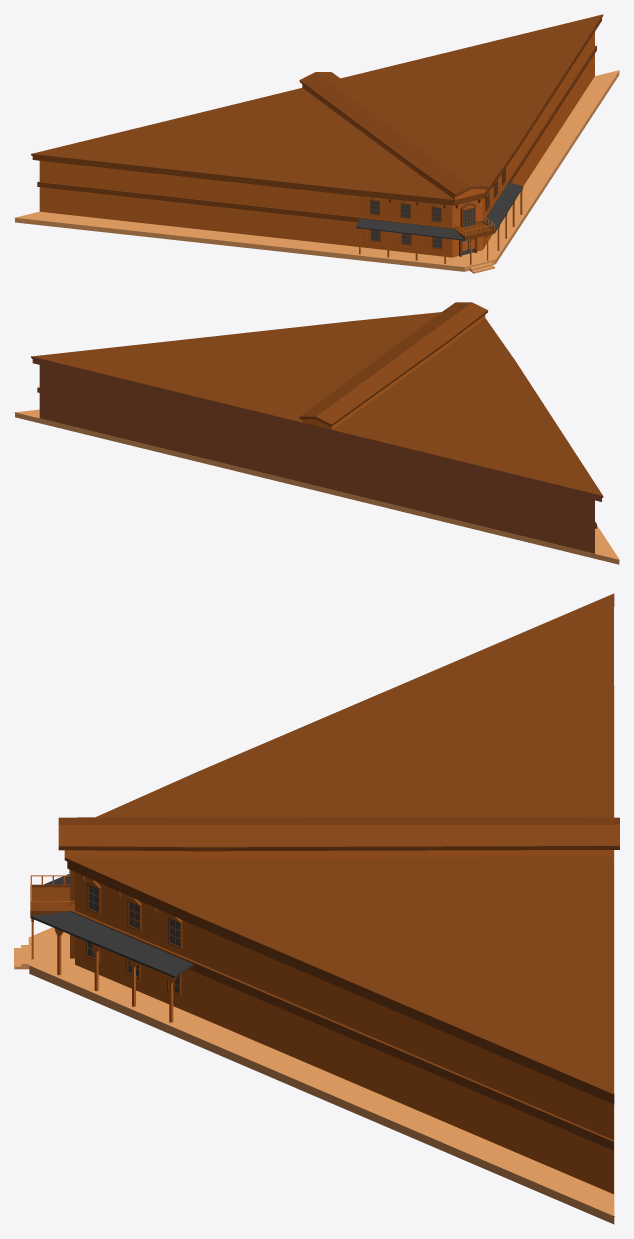
Rendered from Saloon building solo V2.glb.
The picture shows the model from 3 angles, top to bottom: view 1: azimuth 30°, elevation 25°; view 2: azimuth 150°, elevation 25°; view 3: azimuth 270°, elevation 25°; orthographic projection. The views are drawn at different scales.
Visible parts, largest first — view 1: Saloon_Maison, Saloon_Maison socle, Saloon_Toit RDC, Saloon_Fenetre etage, Saloon_Poteau cote, Saloon_Avancee, Saloon_Fenetre RDC; view 2: Saloon_Maison, Saloon_Maison socle; view 3: Saloon_Maison, Saloon_Maison socle, Saloon_Toit RDC, Saloon_Fenetre etage, Saloon_Avancee, Saloon_Poteau cote.
Boxes of the visible parts, x1,y1,x2,y2 form: Saloon_Maison: (31, 14, 603, 257); Saloon_Maison socle: (14, 70, 619, 273); Saloon_Toit RDC: (356, 182, 523, 240); Saloon_Fenetre etage: (370, 168, 505, 222); Saloon_Poteau cote: (356, 188, 522, 263); Saloon_Avancee: (453, 221, 494, 240); Saloon_Fenetre RDC: (370, 230, 485, 248); Saloon_Maison: (31, 302, 603, 553); Saloon_Maison socle: (14, 409, 619, 564); Saloon_Maison: (58, 593, 619, 1194); Saloon_Maison socle: (14, 686, 614, 1224); Saloon_Toit RDC: (30, 873, 193, 977); Saloon_Fenetre etage: (86, 880, 182, 948); Saloon_Avancee: (30, 884, 71, 917); Saloon_Poteau cote: (54, 928, 176, 1022).
Bounding box in the file's own units: 59.69 × 7.12 × 28.81.
4 materials, 1 textured.
